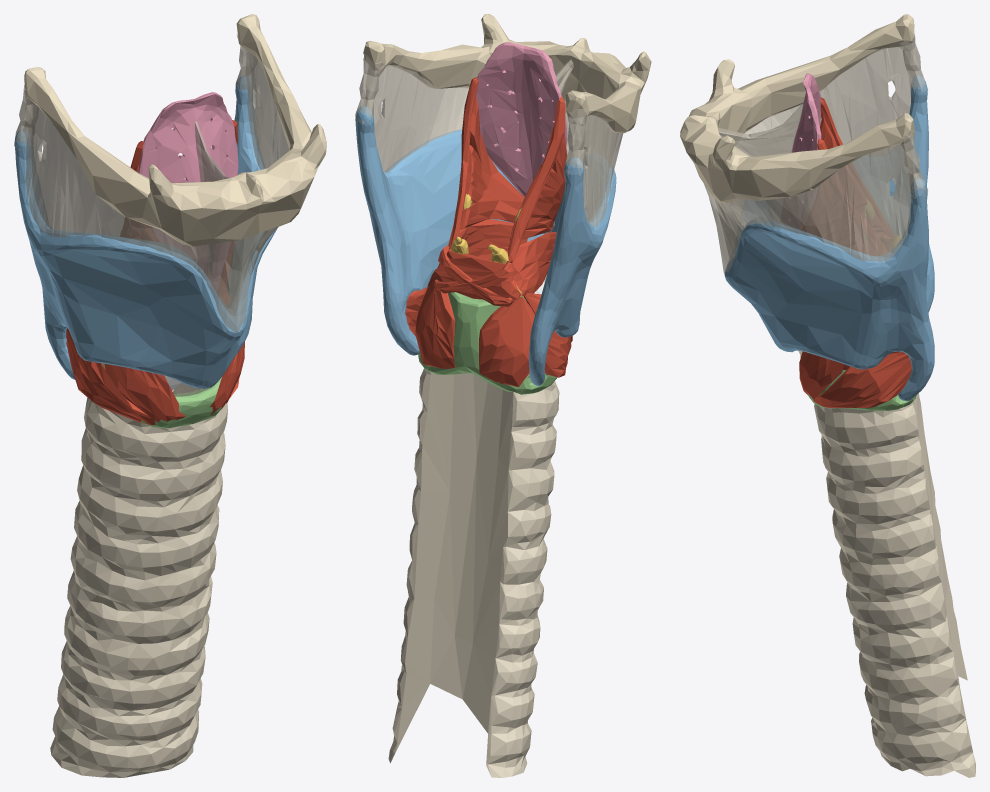
File: larynx.glb
The picture shows the model from 3 angles, left to right: view 1: azimuth 30°, elevation 25°; view 2: azimuth 150°, elevation 25°; view 3: azimuth 270°, elevation 25°; orthographic projection. The views are drawn at different scales.
Parts seen in each view (by area): view 1: trachea, thyroidc, hyoid, membranes, epiglottis, muscles, cricoid; view 2: trachea, muscles, thyroidc, membranes, hyoid, epiglottis, cricoid, arytenoid; view 3: trachea, thyroidc, membranes, hyoid, muscles, epiglottis, cricoid.
Part boxes in pixels (bbox=[...]): trachea: bbox=[50, 383, 227, 777]; thyroidc: bbox=[14, 75, 278, 388]; hyoid: bbox=[24, 14, 326, 246]; membranes: bbox=[14, 34, 289, 396]; epiglottis: bbox=[138, 92, 238, 292]; muscles: bbox=[66, 120, 244, 425]; cricoid: bbox=[89, 363, 222, 428]; trachea: bbox=[388, 368, 559, 777]; muscles: bbox=[405, 77, 572, 386]; thyroidc: bbox=[355, 106, 616, 385]; membranes: bbox=[355, 54, 623, 233]; hyoid: bbox=[363, 14, 651, 133]; epiglottis: bbox=[476, 42, 567, 197]; cricoid: bbox=[418, 292, 557, 394]; arytenoid: bbox=[451, 194, 521, 298]; trachea: bbox=[814, 393, 975, 777]; thyroidc: bbox=[724, 75, 934, 401]; membranes: bbox=[704, 36, 928, 355]; hyoid: bbox=[680, 14, 914, 202]; muscles: bbox=[799, 97, 911, 407]; epiglottis: bbox=[781, 73, 821, 228]; cricoid: bbox=[799, 370, 916, 410].
Bounding box in the file's own units: 0.0387 × 0.1113 × 0.0435.
